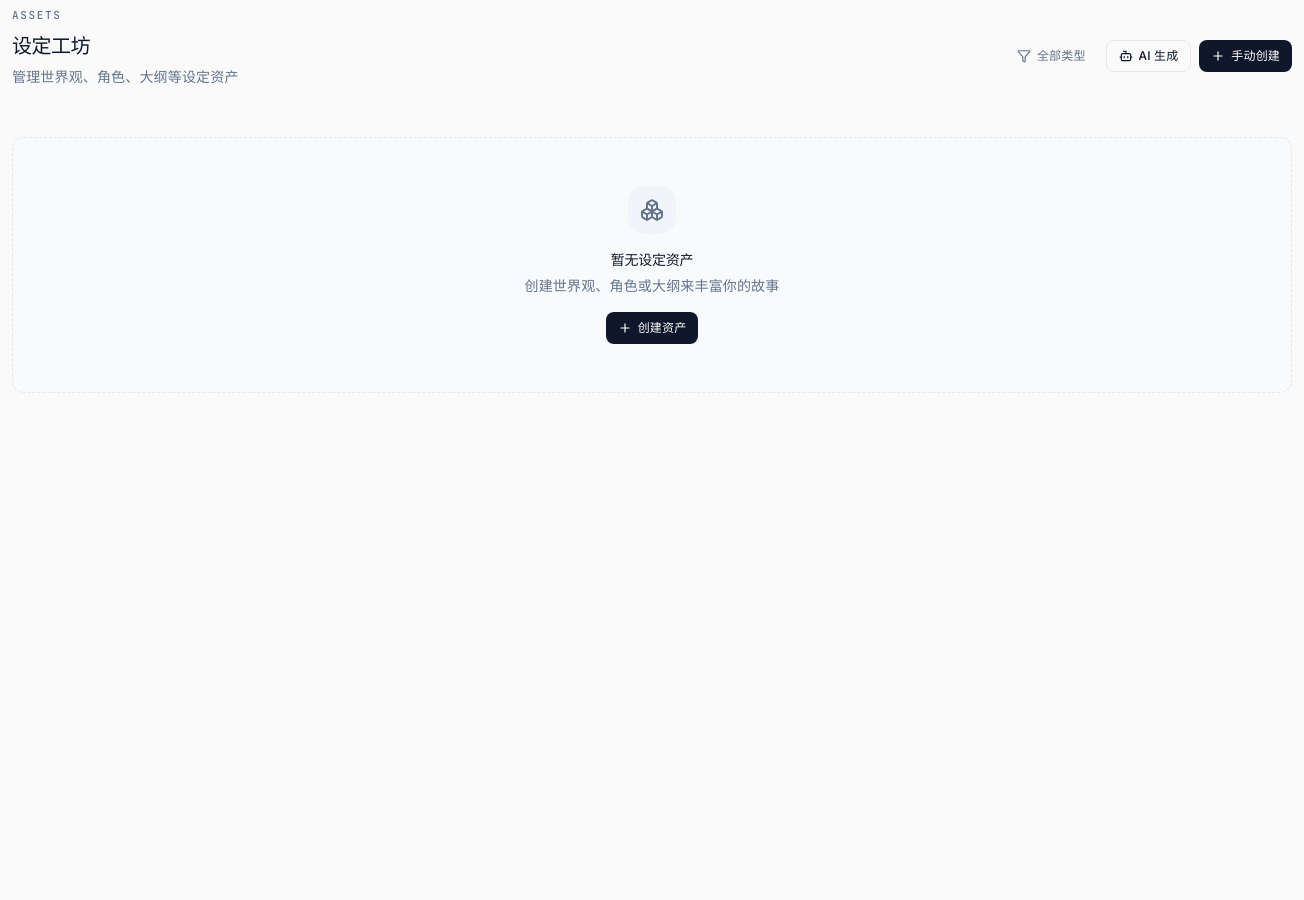
Test: AssetsPanel › does not render raw streaming json while generation is in progress
Check: the heading "暂无设定资产" is shown, box [611,250,693,270]
Step 1. Click the button "AI 生成" → point(1148, 56), box [1106,40,1191,72]
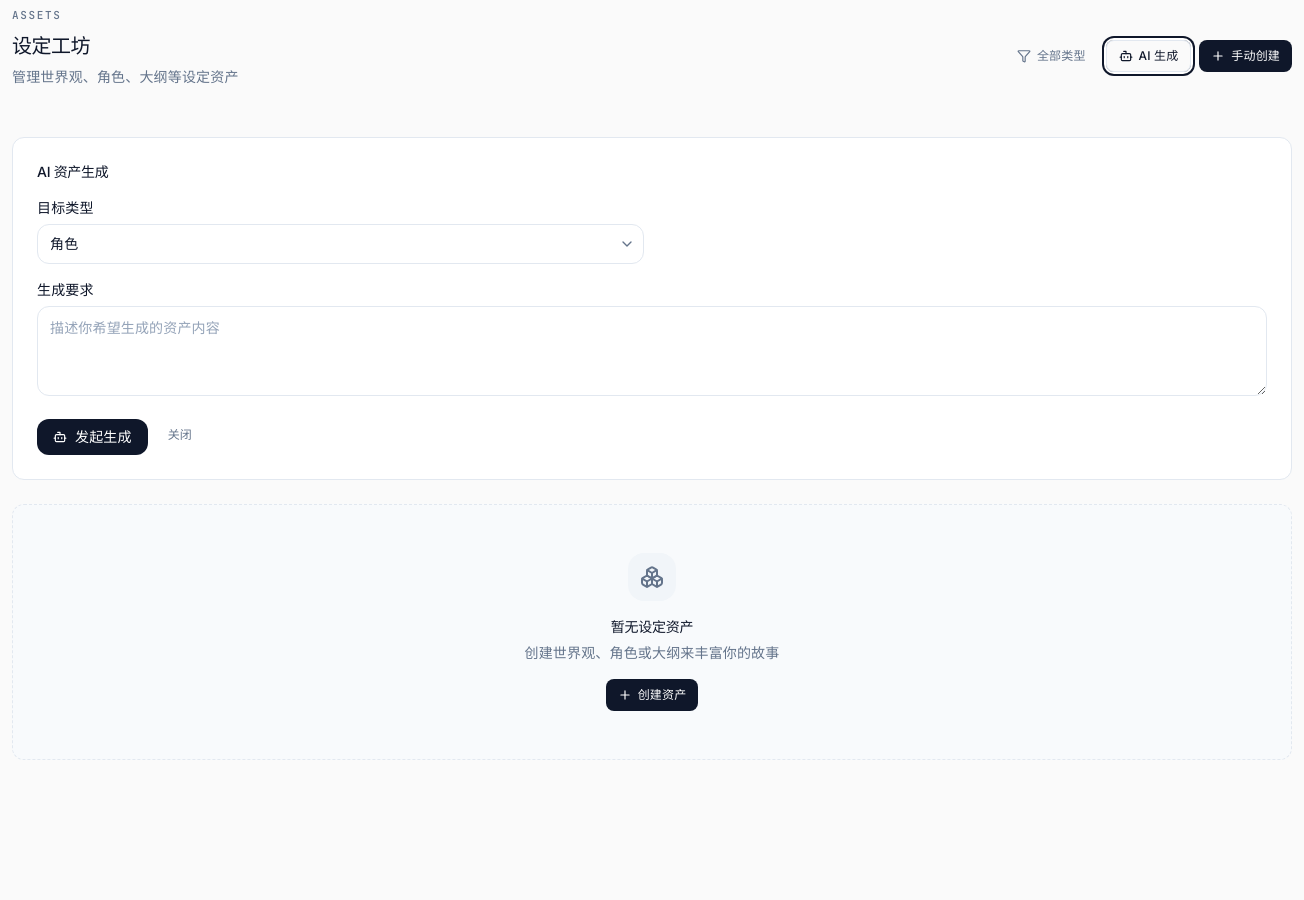
Step 2. Type "生成一个冷静的主角" into the text box with placeholder "描述你希望生成的资产内容" → point(652, 351), box [37,306,1267,396]
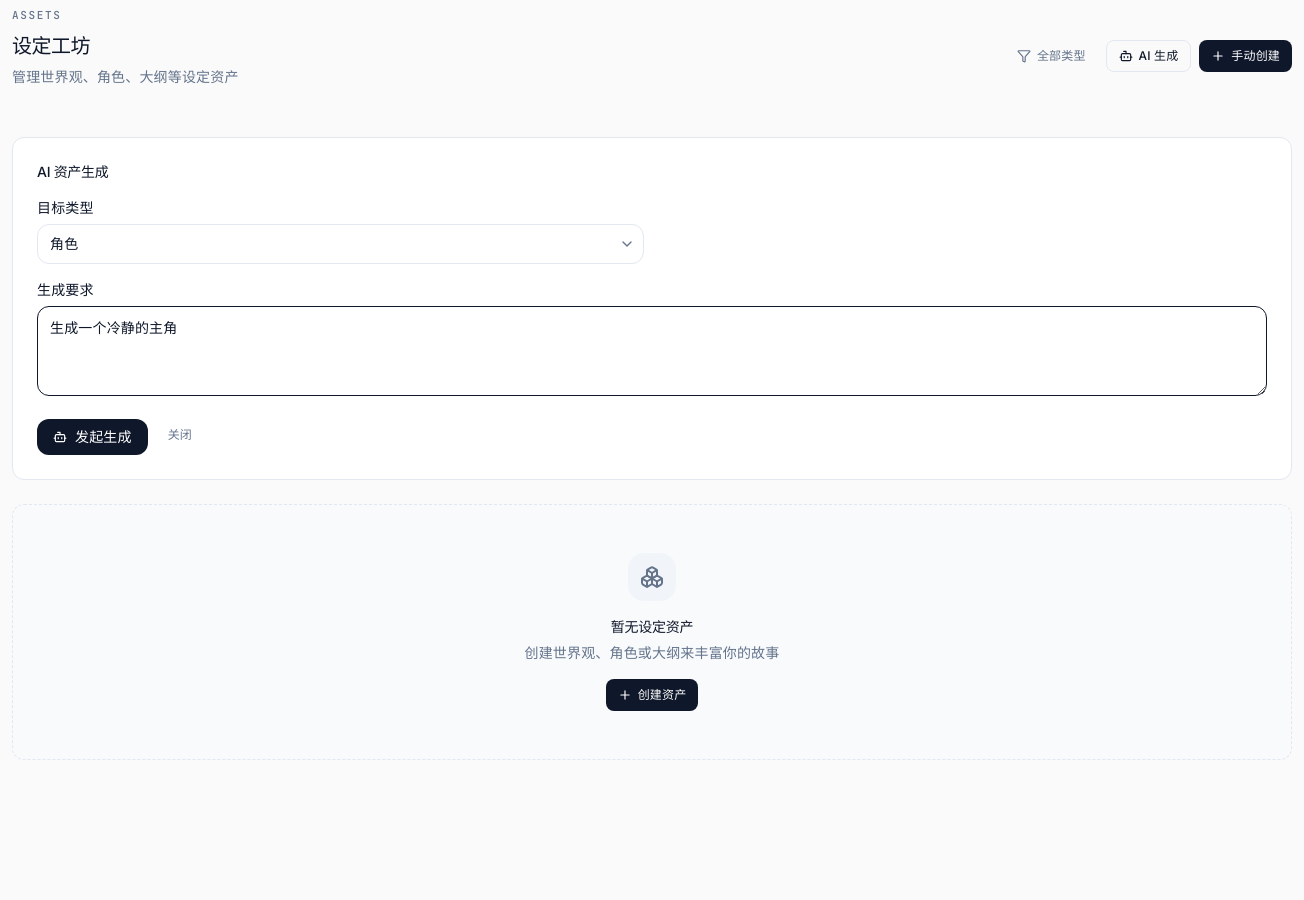
Step 3. Click the button "发起生成" → point(92, 437), box [37,419,148,455]
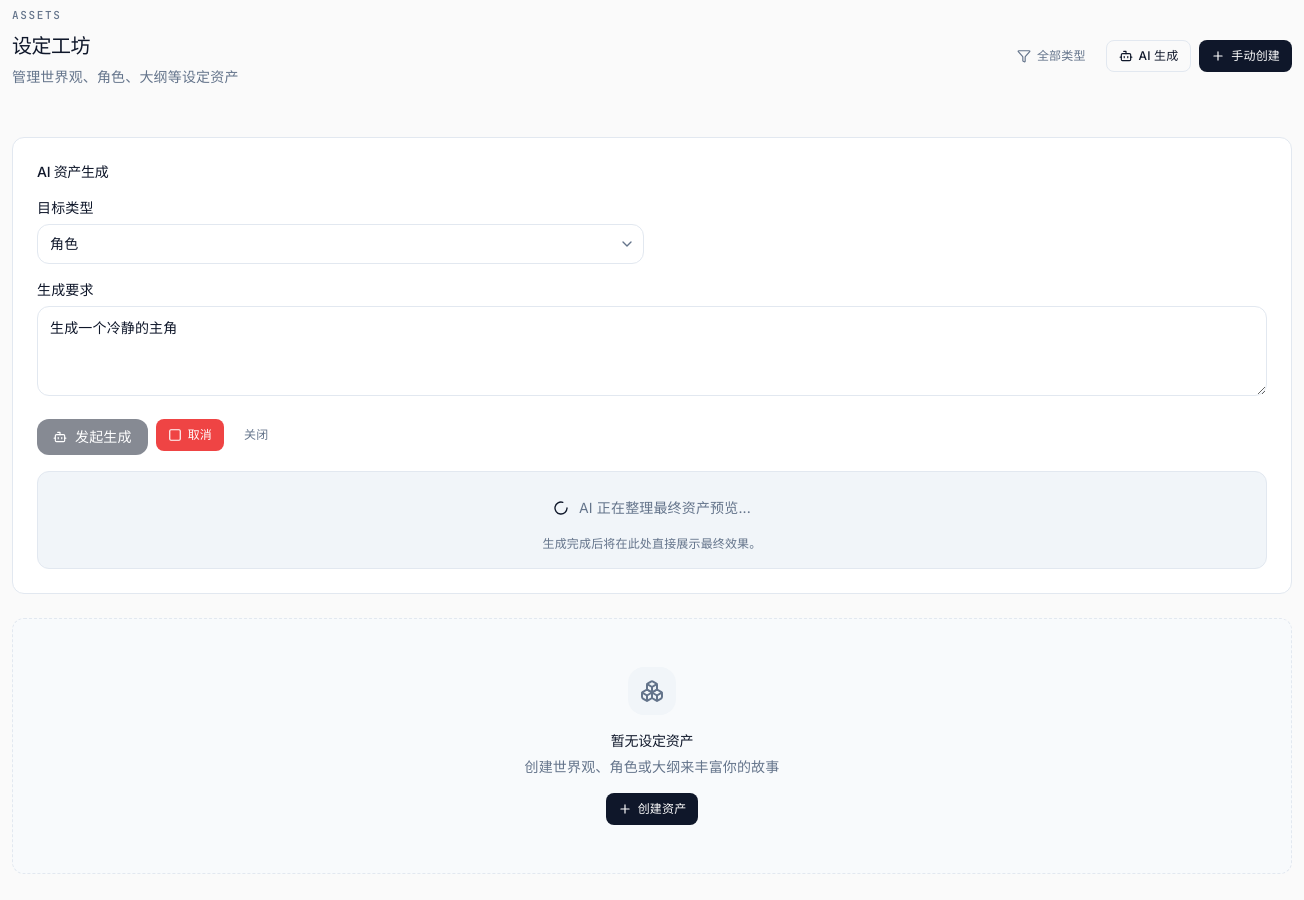
Check: the text "AI 正在整理最终资产预览..." is shown, box [553,499,751,516]
